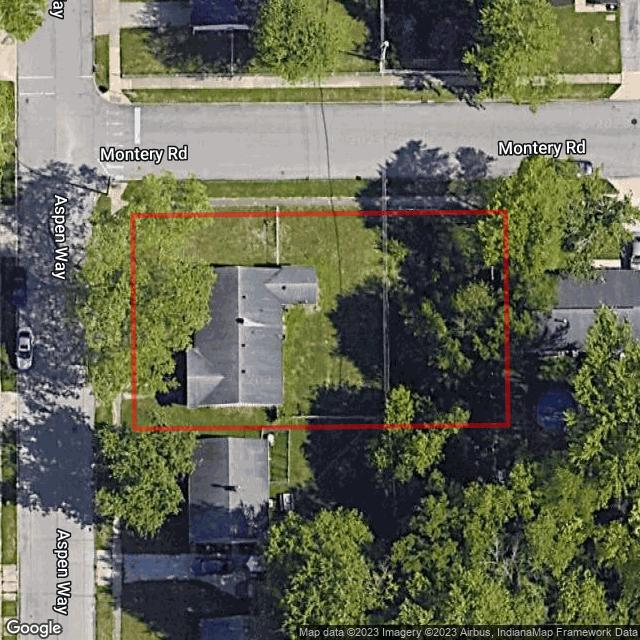Driveway: (137, 352, 186, 397)
Extra Driveway: (110, 213, 123, 427), (95, 181, 131, 213), (96, 350, 111, 406)
Extra Lawn: (131, 179, 505, 199), (121, 213, 132, 427), (95, 213, 111, 351), (95, 404, 112, 428)
Extra Sidewalk: (133, 198, 506, 213)
House: (186, 265, 316, 408)
